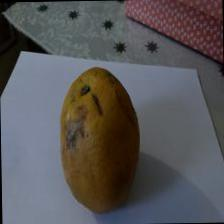Orange Rotten: (46, 56, 154, 221)
